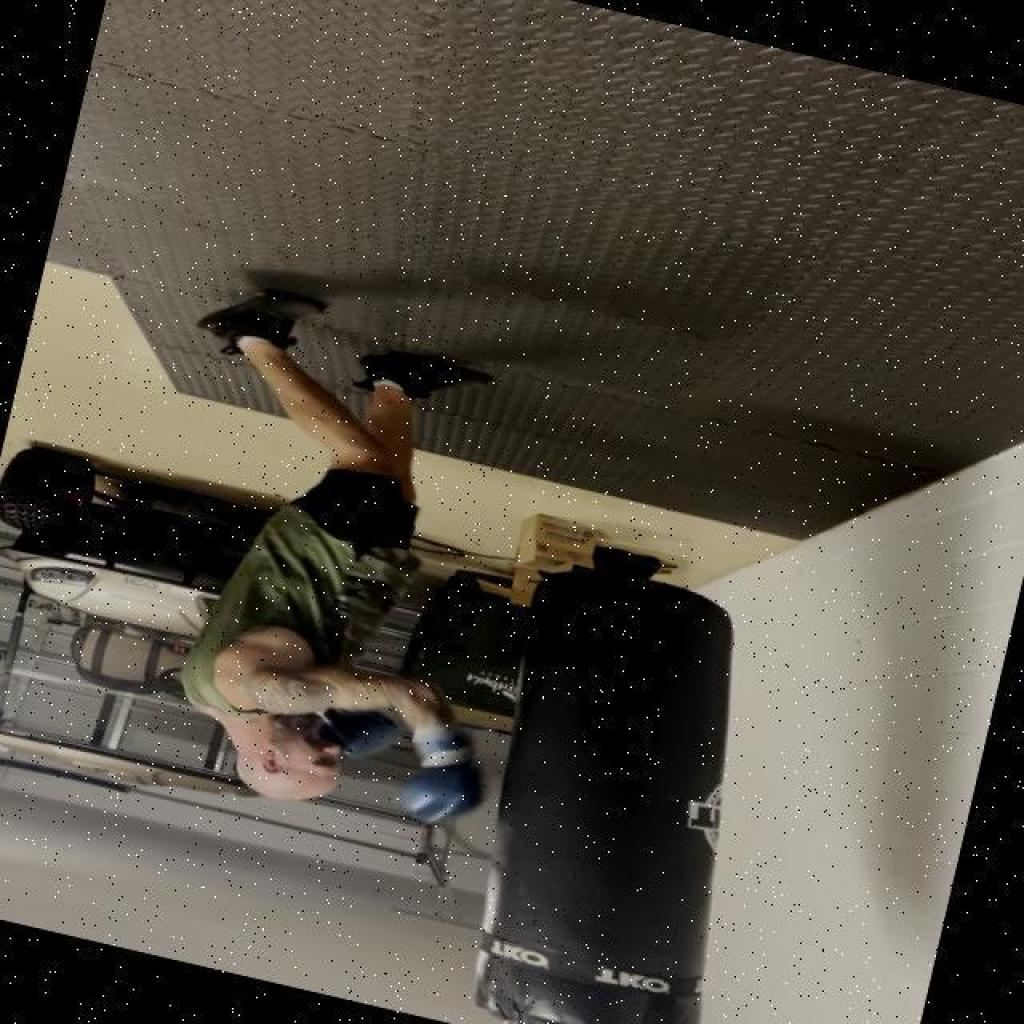bag: (456, 553, 789, 1024)
uppercut: (128, 595, 518, 866)
